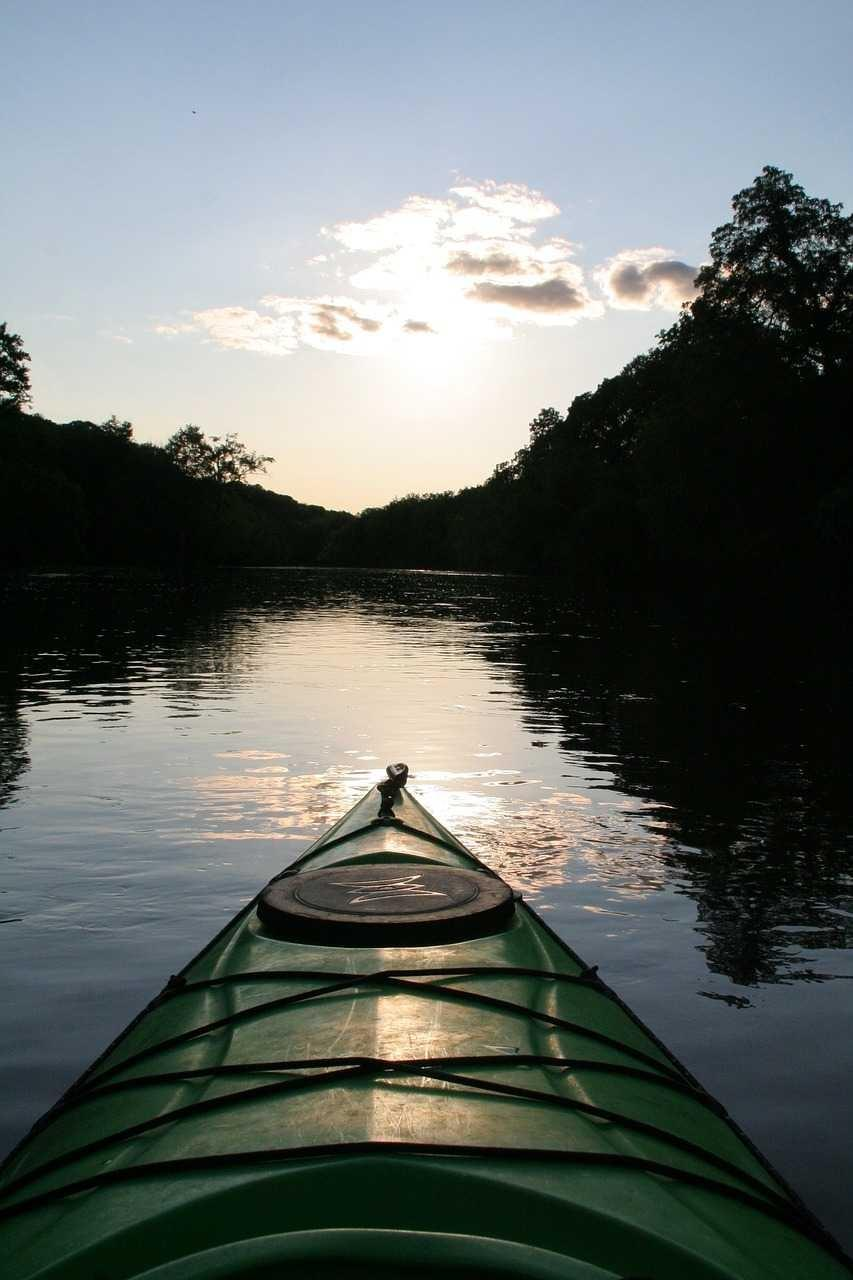kayak: (1, 762, 849, 1277)
